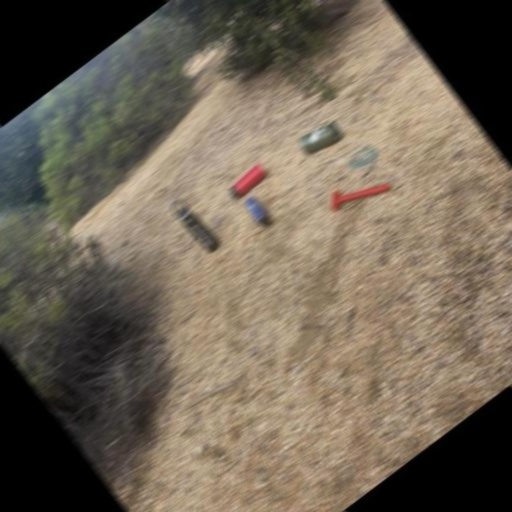bottle: (168, 192, 223, 258), (295, 114, 346, 162), (225, 162, 269, 202), (242, 193, 275, 231)
mallet: (324, 162, 394, 226)
